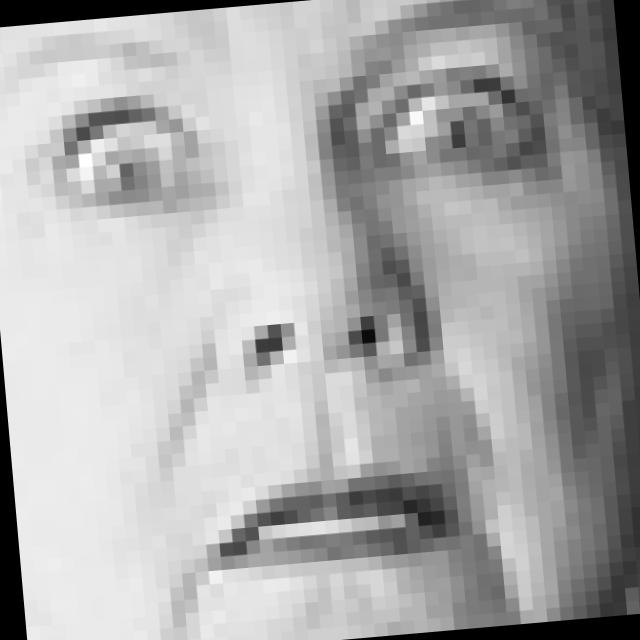fear: (8, 0, 623, 599)
